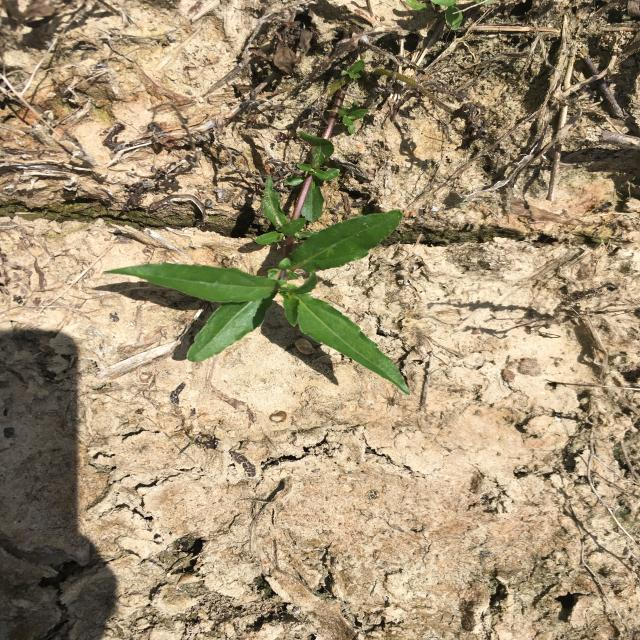Eclipta: (101, 58, 412, 395)
